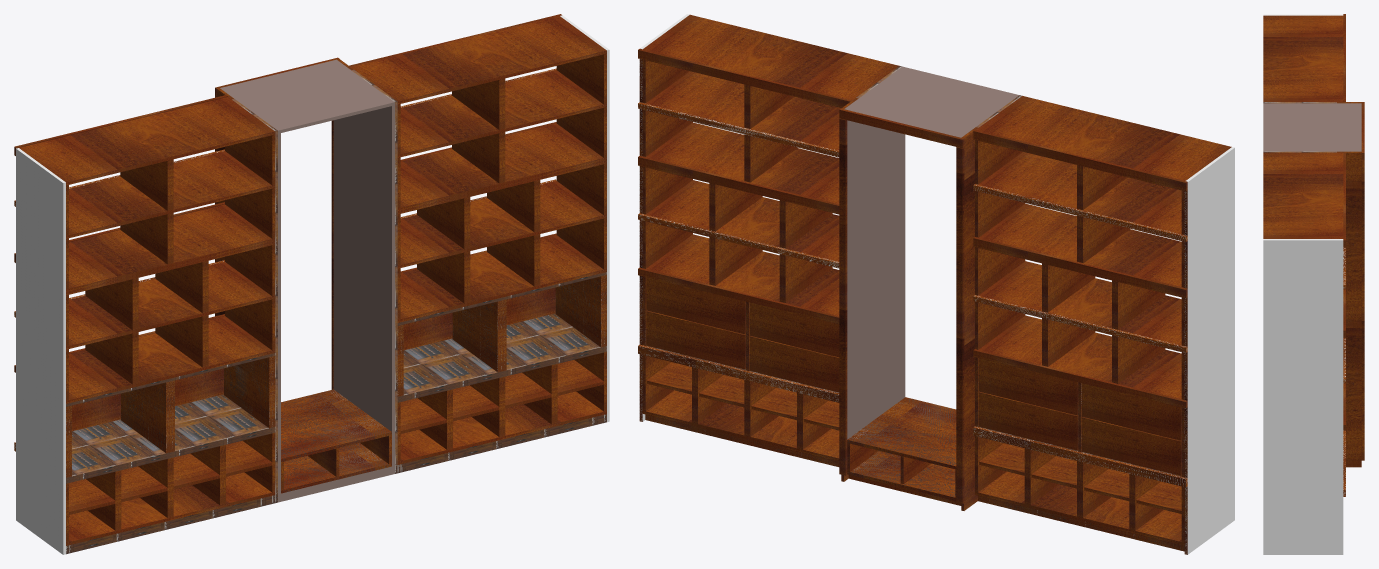
3 views of the same model, side by side, from view 1: azimuth 30°, elevation 25°; view 2: azimuth 150°, elevation 25°; view 3: azimuth 270°, elevation 25° (orthographic). The views are drawn at different scales.
Parts seen in each view (by area): view 1: mesh14_mesh14-geometry, mesh21_mesh21-geometry, mesh50_mesh50-geometry, mesh56_mesh56-geometry, mesh32_mesh32-geometry, mesh25_mesh25-geometry, mesh12_mesh12-geometry, mesh27_mesh27-geometry, mesh10_mesh10-geometry, mesh16_mesh16-geometry, mesh1_mesh1-geometry, mesh44_mesh44-geometry (+14 smaller); view 2: mesh14_mesh14-geometry, mesh30_mesh30-geometry, mesh50_mesh50-geometry, mesh21_mesh21-geometry, mesh56_mesh56-geometry, mesh25_mesh25-geometry, mesh27_mesh27-geometry, mesh12_mesh12-geometry, mesh40_mesh40-geometry, mesh10_mesh10-geometry, mesh1_mesh1-geometry, mesh16_mesh16-geometry (+12 smaller); view 3: mesh50_mesh50-geometry, mesh14_mesh14-geometry, mesh19_mesh19-geometry, mesh58_mesh58-geometry, mesh36_mesh36-geometry, mesh40_mesh40-geometry, mesh18_mesh18-geometry, mesh35_mesh35-geometry, mesh48_mesh48-geometry, mesh52_mesh52-geometry.
Boxes of the visible parts, x1,y1,x2,y2 form: mesh14_mesh14-geometry: [19, 16, 606, 211]; mesh21_mesh21-geometry: [66, 163, 606, 400]; mesh50_mesh50-geometry: [16, 15, 609, 554]; mesh56_mesh56-geometry: [278, 105, 394, 502]; mesh32_mesh32-geometry: [66, 272, 606, 483]; mesh25_mesh25-geometry: [66, 160, 606, 349]; mesh12_mesh12-geometry: [66, 53, 606, 288]; mesh27_mesh27-geometry: [66, 235, 606, 403]; mesh10_mesh10-geometry: [66, 352, 606, 542]; mesh16_mesh16-geometry: [69, 360, 603, 514]; mesh1_mesh1-geometry: [66, 391, 606, 545]; mesh44_mesh44-geometry: [66, 204, 275, 292]; mesh14_mesh14-geometry: [643, 14, 1231, 203]; mesh30_mesh30-geometry: [646, 277, 1181, 475]; mesh50_mesh50-geometry: [639, 14, 1234, 554]; mesh21_mesh21-geometry: [642, 167, 1184, 399]; mesh56_mesh56-geometry: [847, 120, 905, 439]; mesh25_mesh25-geometry: [646, 180, 1181, 345]; mesh27_mesh27-geometry: [646, 234, 1181, 399]; mesh12_mesh12-geometry: [642, 59, 1184, 287]; mesh40_mesh40-geometry: [638, 48, 1187, 298]; mesh10_mesh10-geometry: [642, 355, 1184, 542]; mesh1_mesh1-geometry: [642, 390, 1184, 545]; mesh16_mesh16-geometry: [646, 362, 1181, 513]; mesh50_mesh50-geometry: [1263, 14, 1343, 554]; mesh14_mesh14-geometry: [1263, 15, 1343, 238]; mesh19_mesh19-geometry: [1337, 102, 1361, 467]; mesh58_mesh58-geometry: [1263, 103, 1361, 151]; mesh36_mesh36-geometry: [1361, 160, 1364, 460]; mesh40_mesh40-geometry: [1343, 14, 1345, 337]; mesh18_mesh18-geometry: [1263, 102, 1336, 152]; mesh35_mesh35-geometry: [1343, 247, 1345, 383]; mesh48_mesh48-geometry: [1361, 102, 1364, 159]; mesh52_mesh52-geometry: [1343, 430, 1345, 496].
Bounding box in the file's own units: 0.8275 × 0.539 × 0.1572.
